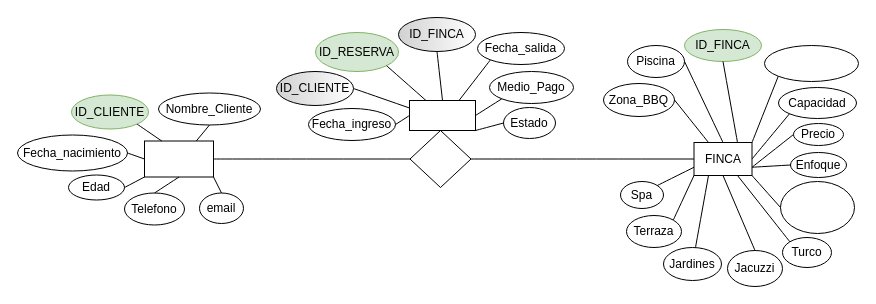
Image size: 876x304. Some labels were removed from this diagram. The shapes that lost their labels are listed below. From the top down, each one's centre as x and y in pixels, then its label:
At point (811, 63): "Nombre_Finca".
At point (442, 115): "Reserva".
At point (179, 158): "CLIENTE".
At point (440, 159): "M:M".
At point (817, 207): "Zona_ Meditacion_ yoga".
